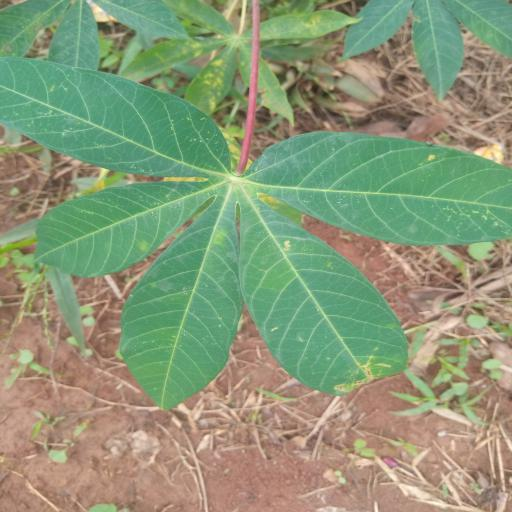Cassava_Healthy: (0, 50, 512, 414)
